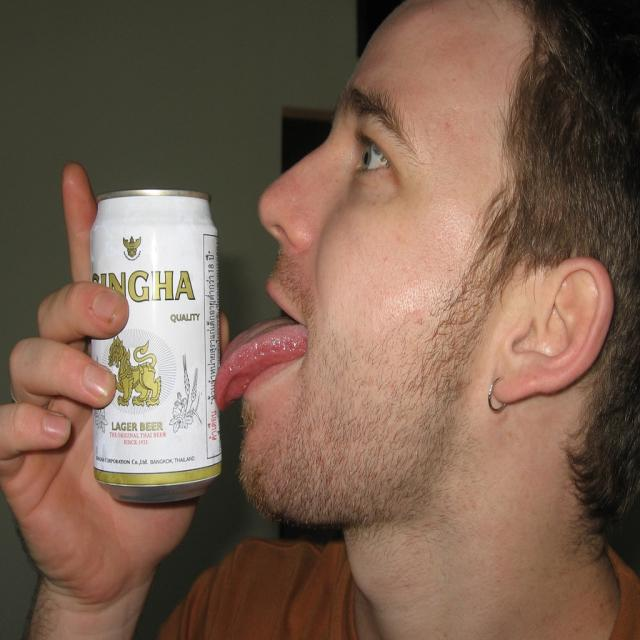singha: (91, 266, 207, 453)
